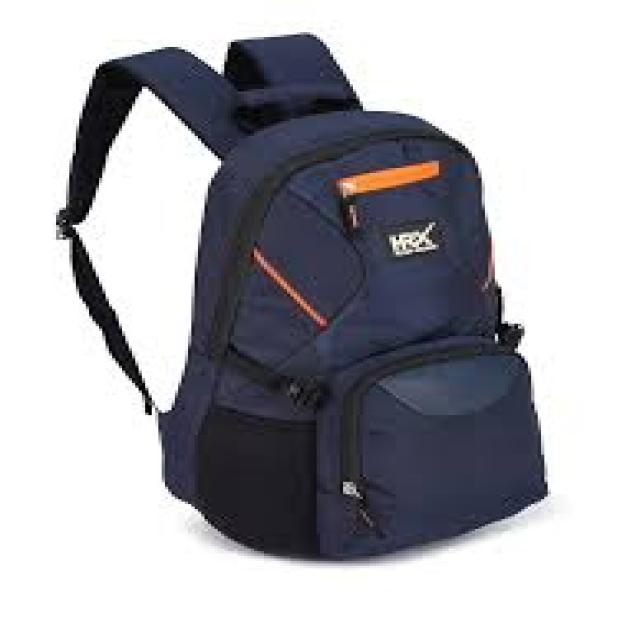backpack: (52, 29, 548, 558)
